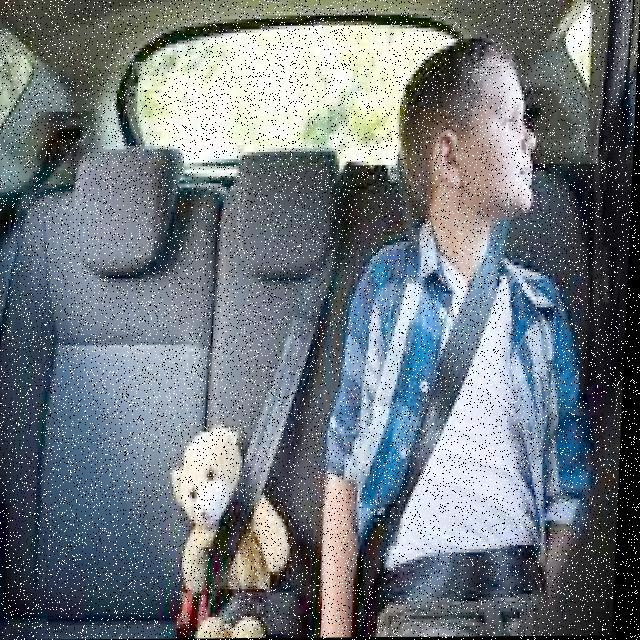seatbelt: (356, 230, 574, 581), (199, 272, 323, 639)
